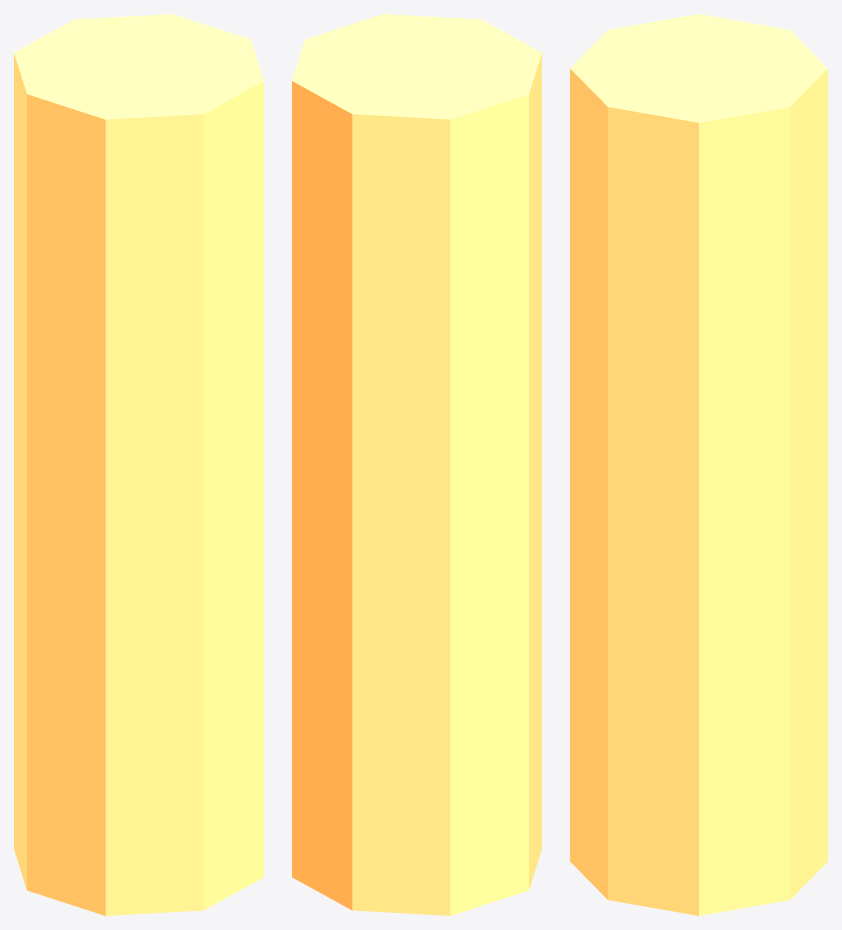
The model's file is jauge.glb.
The picture shows the model from 3 angles, left to right: view 1: azimuth 30°, elevation 25°; view 2: azimuth 150°, elevation 25°; view 3: azimuth 270°, elevation 25°; orthographic projection.
Parts seen in each view (by area): view 1: jauge.003; view 2: jauge.003; view 3: jauge.003.
Part boxes in pixels (x1,y1,x2,y2): jauge.003: (14, 14, 263, 915); jauge.003: (292, 14, 541, 915); jauge.003: (570, 14, 827, 915).
Size of the model in its own units: 0.8322 by 2.83 by 0.8322.
